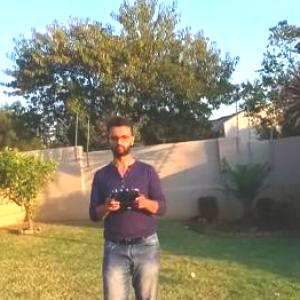follow: (79, 101, 167, 299)
